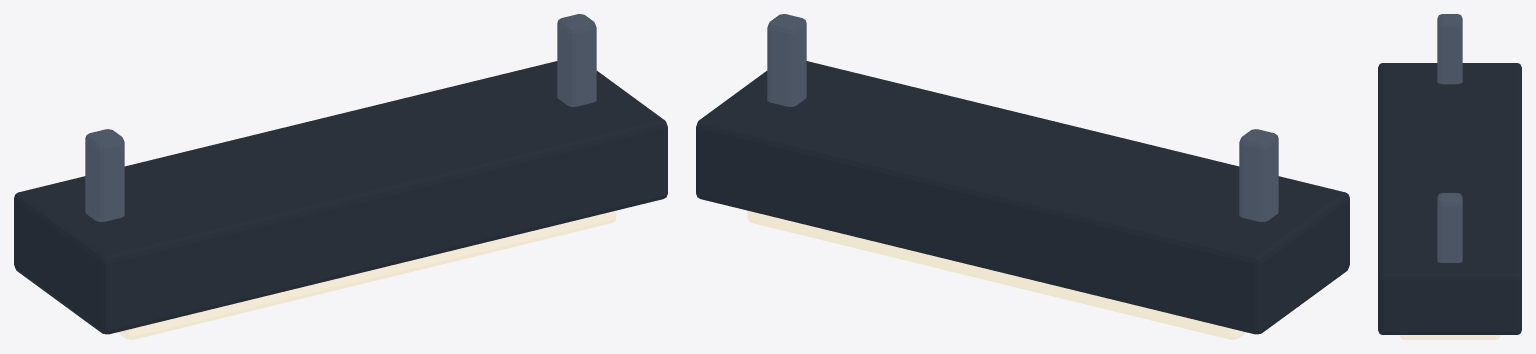
Rendered from luz_techo.glb.
The picture shows the model from 3 angles, left to right: view 1: azimuth 30°, elevation 25°; view 2: azimuth 150°, elevation 25°; view 3: azimuth 270°, elevation 25°; orthographic projection. The views are drawn at different scales.
Visible parts, largest first — view 1: Cube.022, Cube.023, Cube.024, Cube.025; view 2: Cube.022, Cube.023, Cube.024, Cube.025; view 3: Cube.022, Cube.024, Cube.025, Cube.023.
Boxes of the visible parts, x1,y1,x2,y2 form: Cube.022: (14,61,667,334); Cube.023: (117,210,616,339); Cube.024: (85,129,124,221); Cube.025: (557,14,596,106); Cube.022: (696,61,1349,334); Cube.023: (747,210,1246,339); Cube.024: (1239,129,1278,221); Cube.025: (767,14,806,106); Cube.022: (1378,63,1521,334); Cube.024: (1437,14,1462,84); Cube.025: (1437,193,1462,262); Cube.023: (1399,335,1500,339).
Bounding box in the file's own units: 1.2 × 0.37 × 0.34.
